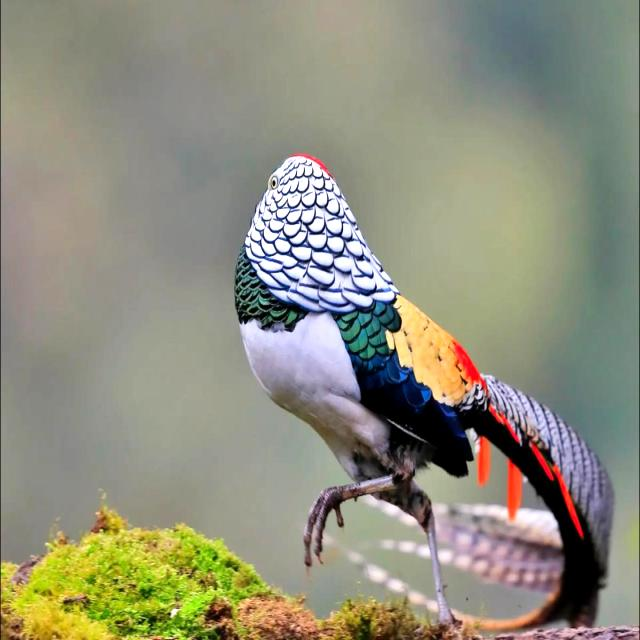Chrysolophus amherstiae: (463, 376, 614, 630), (479, 535, 547, 560)
